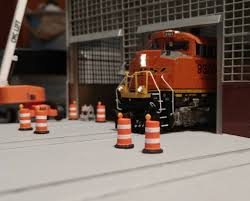barrel: (145, 120, 160, 150), (117, 118, 131, 145), (19, 108, 31, 130), (36, 110, 47, 131), (69, 103, 78, 119), (98, 104, 105, 120)
